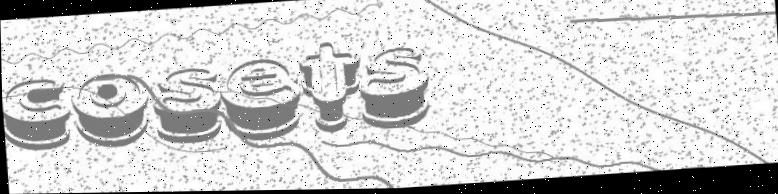c: (2, 76, 75, 155)
e: (218, 58, 303, 143)
o: (70, 70, 150, 151)
s: (357, 46, 432, 133), (149, 65, 224, 147)
t: (297, 40, 361, 136)
